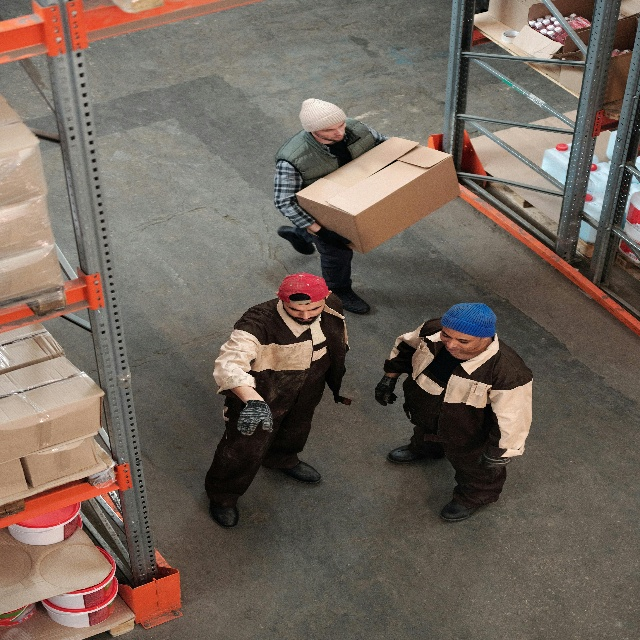Guantes: (236, 399, 273, 437), (313, 225, 352, 249), (374, 372, 398, 408), (477, 450, 512, 471)
